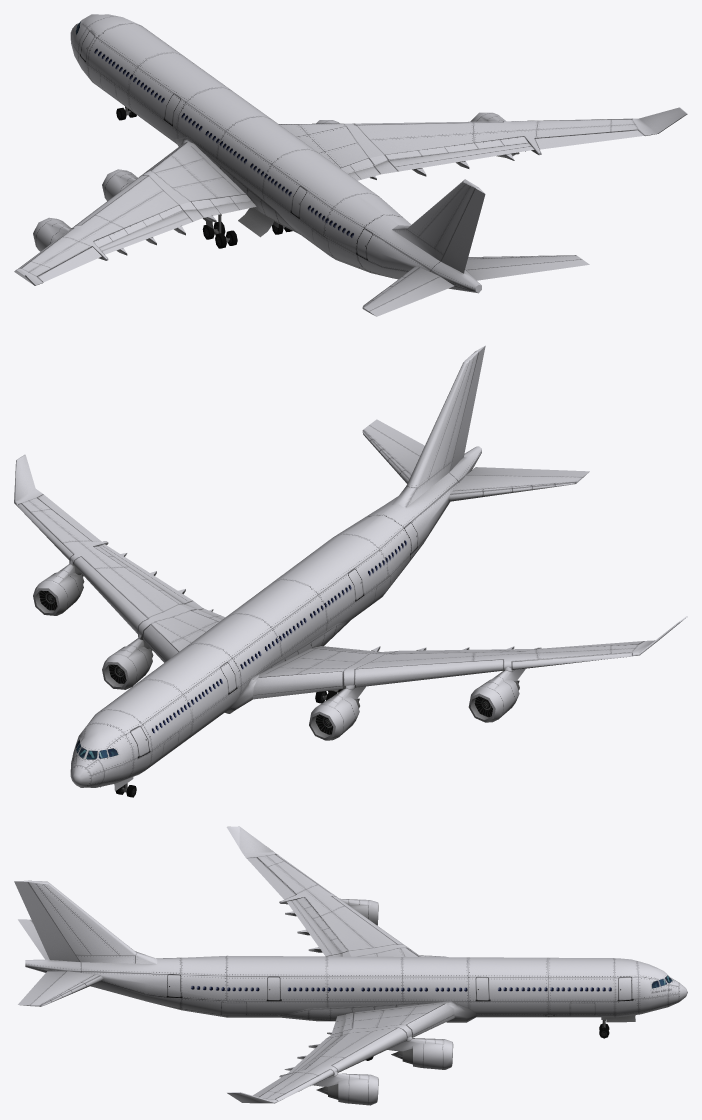
Rendered from airbus.glb.
3 renders of one model, top to bottom at view 1: azimuth 30°, elevation 25°; view 2: azimuth 150°, elevation 25°; view 3: azimuth 270°, elevation 25°, orthographic. The views are drawn at different scales.
Parts seen in each view (by area): view 1: HULL_A345_GA_0, RIGHTRIGHTFLAP_A345_GA_0, TOPRUDDER_A345_GA_0, LEFTLEFTFLAP_A345_GA_0, RIGHTELEVATOR_A345_GA_0, RIGHTAILERON_A345_GA_0, LEFTELEVATOR_A345_GA_0, LEFTAILERON_A345_GA_0, LEFTFLAP_A345_GA_0, COVERLEFT1_A345_GA_0, RIGHTFLAP_A345_GA_0; view 2: HULL_A345_GA_0, LEFTLEFTSLAT_A345_GA_0, LEFTSLAT_A345_GA_0, RIGHTRIGHTSLAT_A345_GA_0, TOPRUDDER_A345_GA_0, LEFTELEVATOR_A345_GA_0, RIGHTRIGHTFLAP_A345_GA_0, LEFTLEFTLEFTSLAT_A345_GA_0; view 3: HULL_A345_GA_0, TOPRUDDER_A345_GA_0, LEFTLEFTFLAP_A345_GA_0, RIGHTRIGHTSLAT_A345_GA_0, RIGHTSLAT_A345_GA_0, LEFTAILERON_A345_GA_0, RIGHTELEVATOR_A345_GA_0, RIGHTRIGHTFLAP_A345_GA_0.
Part boxes in pixels (bbox=[...]): HULL_A345_GA_0: bbox=[14, 14, 687, 312]; RIGHTRIGHTFLAP_A345_GA_0: bbox=[388, 141, 534, 176]; TOPRUDDER_A345_GA_0: bbox=[441, 187, 485, 273]; LEFTLEFTFLAP_A345_GA_0: bbox=[98, 210, 192, 255]; RIGHTELEVATOR_A345_GA_0: bbox=[466, 259, 589, 280]; RIGHTAILERON_A345_GA_0: bbox=[534, 129, 644, 149]; LEFTELEVATOR_A345_GA_0: bbox=[369, 276, 454, 316]; LEFTAILERON_A345_GA_0: bbox=[37, 246, 101, 282]; LEFTFLAP_A345_GA_0: bbox=[183, 200, 256, 222]; COVERLEFT1_A345_GA_0: bbox=[238, 207, 273, 237]; RIGHTFLAP_A345_GA_0: bbox=[347, 160, 397, 180]; HULL_A345_GA_0: bbox=[14, 351, 687, 787]; LEFTLEFTSLAT_A345_GA_0: bbox=[354, 659, 503, 687]; LEFTSLAT_A345_GA_0: bbox=[253, 671, 343, 699]; RIGHTRIGHTSLAT_A345_GA_0: bbox=[73, 556, 147, 633]; TOPRUDDER_A345_GA_0: bbox=[449, 345, 485, 471]; LEFTELEVATOR_A345_GA_0: bbox=[466, 467, 589, 477]; RIGHTRIGHTFLAP_A345_GA_0: bbox=[97, 544, 192, 603]; LEFTLEFTLEFTSLAT_A345_GA_0: bbox=[511, 653, 632, 670]; HULL_A345_GA_0: bbox=[25, 826, 687, 1105]; TOPRUDDER_A345_GA_0: bbox=[14, 880, 80, 961]; LEFTLEFTFLAP_A345_GA_0: bbox=[285, 899, 341, 956]; RIGHTRIGHTSLAT_A345_GA_0: bbox=[331, 1027, 407, 1072]; RIGHTSLAT_A345_GA_0: bbox=[407, 1003, 454, 1037]; LEFTAILERON_A345_GA_0: bbox=[246, 857, 296, 899]; RIGHTELEVATOR_A345_GA_0: bbox=[18, 971, 66, 1005]; RIGHTRIGHTFLAP_A345_GA_0: bbox=[284, 1035, 341, 1073].
Size of the model in its own units: 63.48 by 17.14 by 67.86.
Materials: 1 (1 with a texture image).
